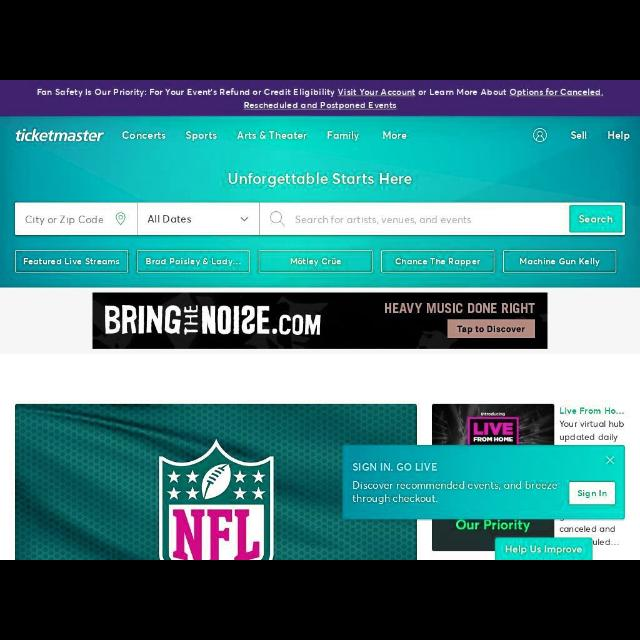icon: (267, 210, 287, 228), (532, 126, 548, 144), (114, 210, 128, 228), (604, 454, 616, 466), (240, 215, 250, 223)
iframe: (93, 292, 547, 348)
image: (16, 405, 418, 559), (432, 404, 554, 446), (14, 124, 104, 146)
input: (262, 201, 624, 235), (15, 203, 136, 235)
link: (243, 98, 399, 112), (508, 88, 602, 99), (336, 88, 416, 98)
spinner: (137, 203, 261, 235)
text: (36, 85, 612, 114), (352, 478, 560, 508), (227, 168, 416, 190), (294, 212, 472, 226), (561, 418, 625, 442), (144, 254, 242, 266), (24, 213, 106, 227), (518, 255, 600, 268), (394, 256, 482, 268), (234, 128, 308, 142), (22, 256, 122, 266), (353, 461, 439, 472), (506, 544, 582, 556), (122, 126, 166, 142), (148, 210, 192, 226), (560, 406, 628, 416), (290, 256, 344, 268), (182, 128, 220, 142), (324, 128, 361, 140), (578, 213, 614, 225), (578, 486, 608, 500), (606, 128, 630, 144), (384, 126, 408, 140), (570, 126, 588, 142)
textbutton: (501, 248, 619, 274), (136, 248, 252, 274), (258, 248, 374, 274), (379, 248, 495, 274), (14, 249, 130, 273), (496, 537, 592, 559), (570, 205, 622, 232), (568, 481, 616, 505)
toolbar: (1, 116, 639, 286)
